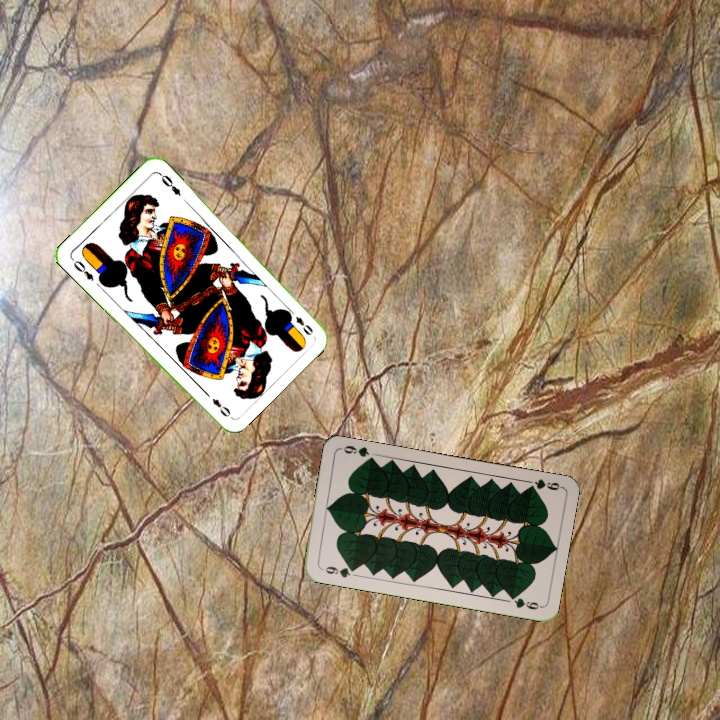EO: (284, 305, 316, 338), (68, 254, 96, 283)
G9: (522, 475, 564, 493), (317, 562, 358, 580)
